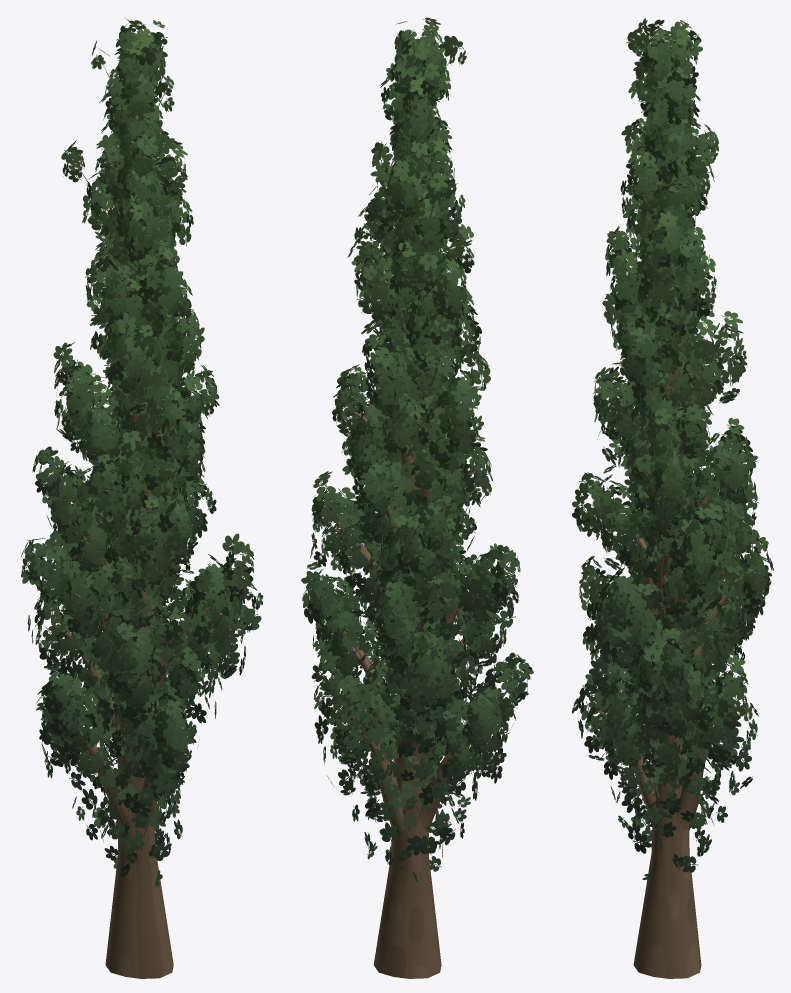
File: tree.gltf
The picture shows the model from 3 angles, left to right: view 1: azimuth 30°, elevation 25°; view 2: azimuth 150°, elevation 25°; view 3: azimuth 270°, elevation 25°; orthographic projection.
Parts seen in each view (by area): view 1: Tree_LOD0; view 2: Tree_LOD0; view 3: Tree_LOD0.
Boxes of the visible parts, x1,y1,x2,y2 form: Tree_LOD0: (21, 17, 263, 978); Tree_LOD0: (301, 17, 533, 978); Tree_LOD0: (572, 18, 773, 978).
Size of the model in its own units: 7.79 by 29.94 by 6.04.
2 materials, 2 textured.
